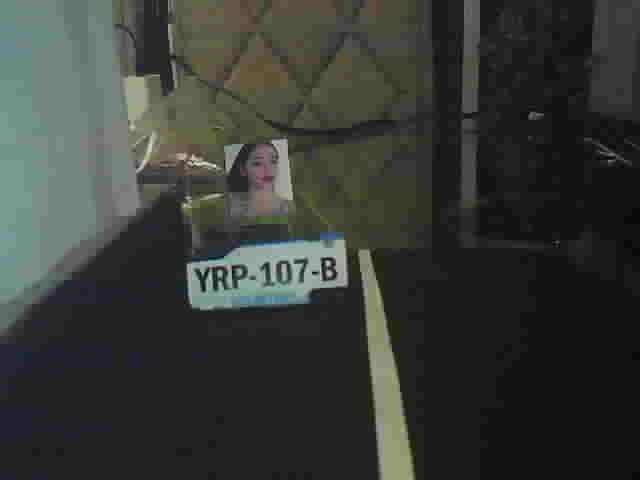PLACA: (183, 231, 350, 316)
ROSTRO: (230, 143, 289, 213)
